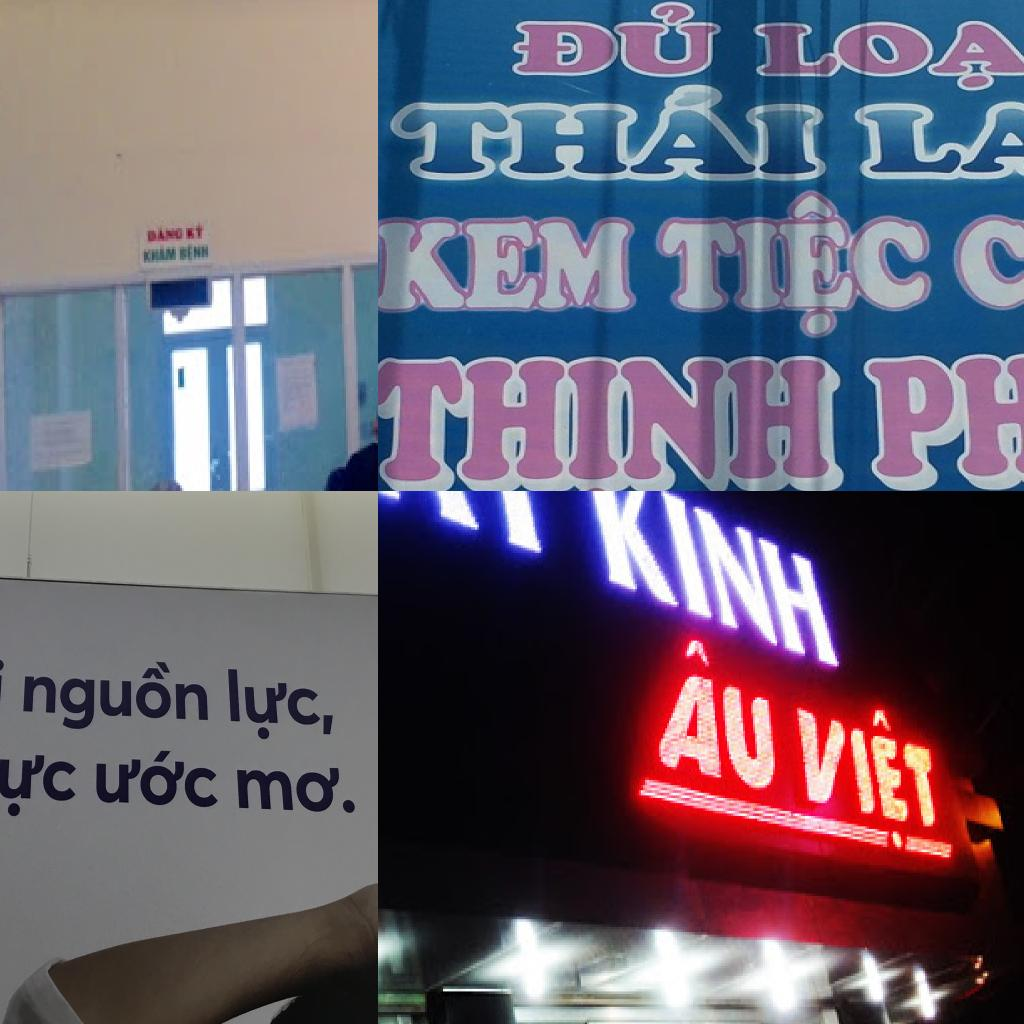text: (378, 350, 855, 491), (573, 491, 843, 676), (386, 84, 838, 188), (654, 190, 939, 338), (793, 677, 953, 865), (860, 311, 1024, 491), (378, 215, 643, 314), (748, 15, 1024, 94), (651, 635, 783, 798), (502, 0, 729, 81), (843, 88, 1024, 185), (19, 659, 211, 732), (950, 180, 1024, 322), (224, 662, 338, 744), (94, 749, 222, 814), (0, 736, 80, 819), (180, 241, 212, 268), (142, 246, 180, 268), (148, 226, 186, 246), (186, 223, 208, 244)
